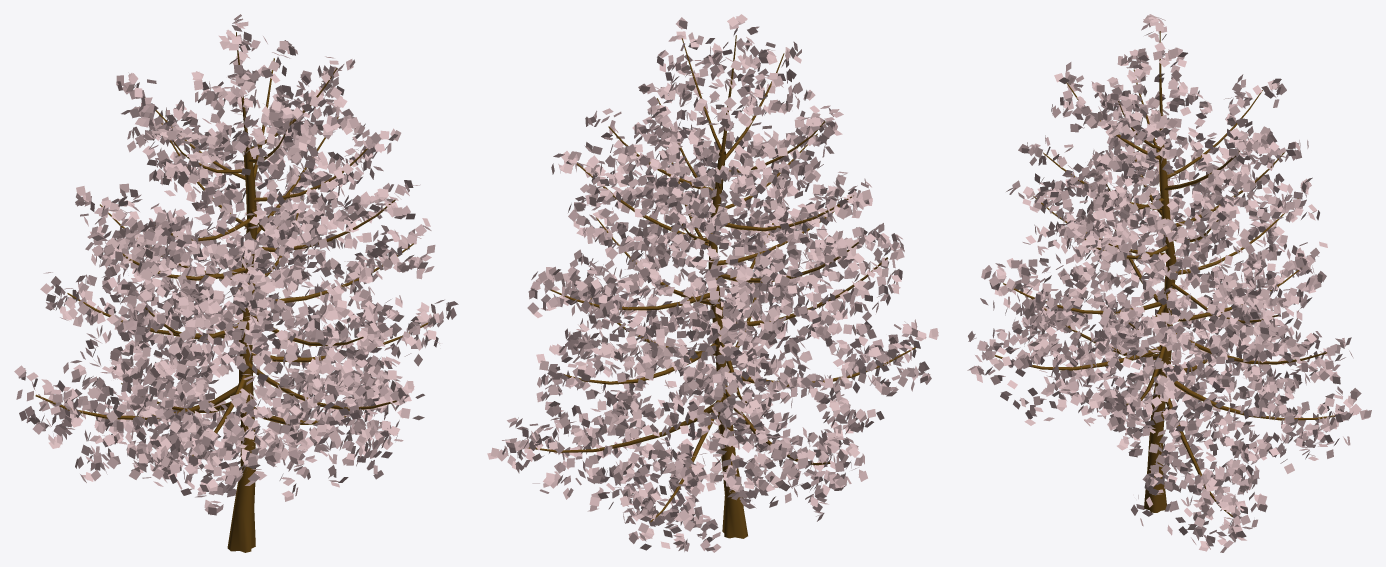
File: Baum 3.FBX
3 renders of one model, left to right at view 1: azimuth 30°, elevation 25°; view 2: azimuth 150°, elevation 25°; view 3: azimuth 270°, elevation 25°, orthographic. The views are drawn at different scales.
Parts seen in each view (by area): view 1: Foliage012; view 2: Foliage012; view 3: Foliage012.
Boxes of the visible parts, <box> form: Foliage012: <box>14,14,458,552</box>; Foliage012: <box>487,14,938,552</box>; Foliage012: <box>967,14,1371,552</box>.
Size of the model in its own units: 921 by 1223 by 914.
